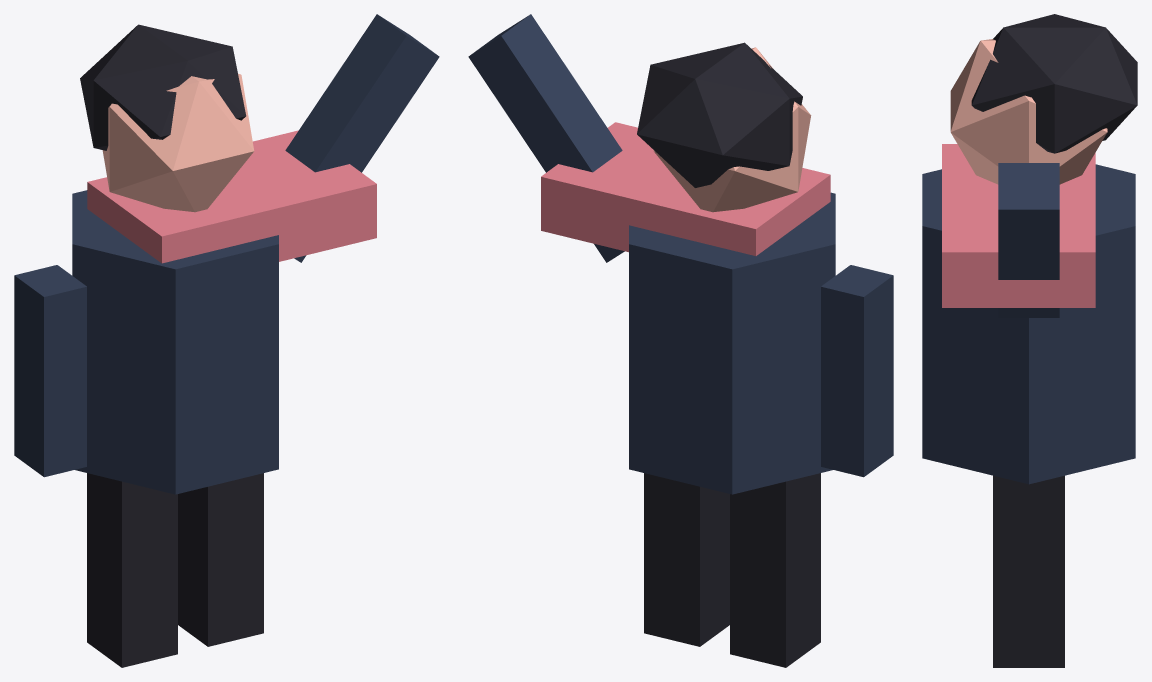
The model's file is kid.glb.
3 views of the same model, side by side, from view 1: azimuth 30°, elevation 25°; view 2: azimuth 150°, elevation 25°; view 3: azimuth 270°, elevation 25° (orthographic). The views are drawn at different scales.
Parts seen in each view (by area): view 1: Kid; view 2: Kid; view 3: Kid.
Boxes of the visible parts, <box> form: Kid: <box>14,14,439,667</box>; Kid: <box>468,14,893,667</box>; Kid: <box>922,14,1137,667</box>.
Size of the model in its own units: 0.919 by 1.3 by 0.4195.
